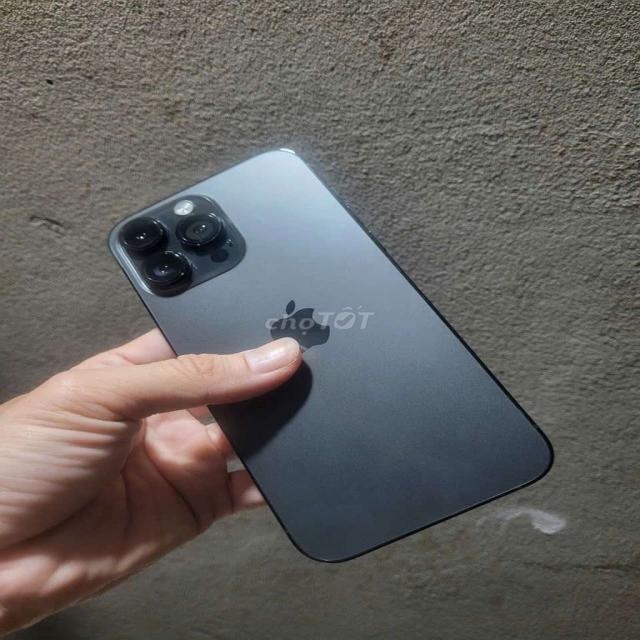gen_14: (100, 142, 562, 567)
